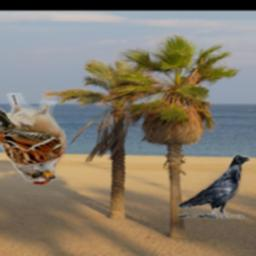Crow: (179, 155, 250, 220)
Sparrow: (0, 93, 67, 185)
